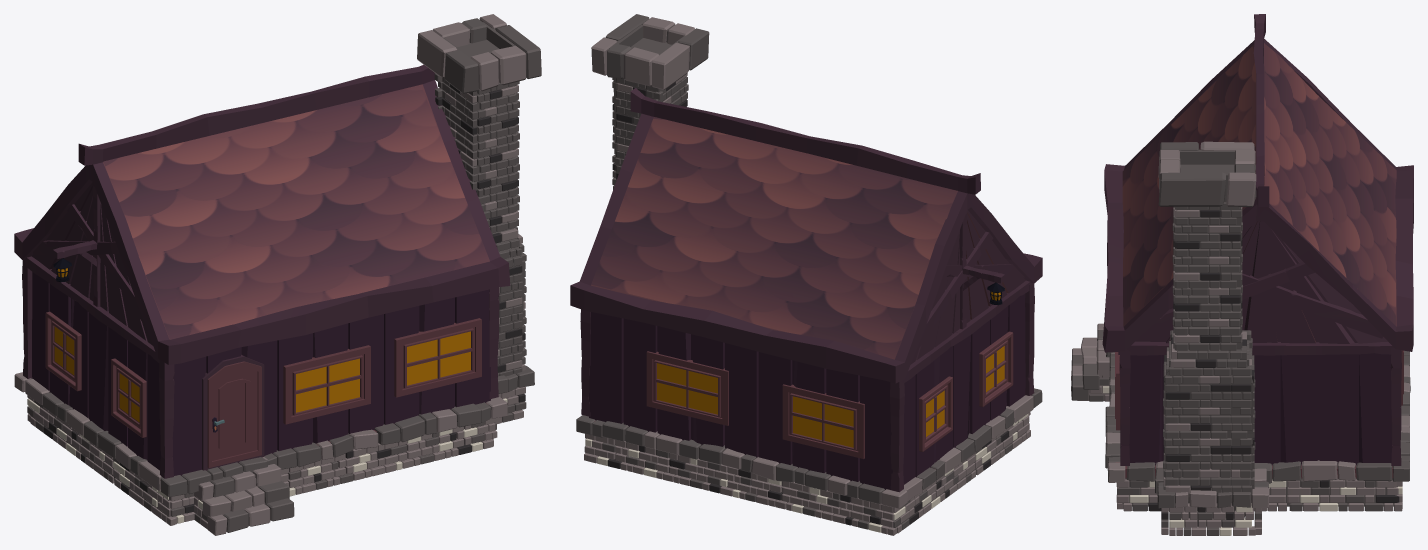
Rendered from casa-madeira4.fbx.
The picture shows the model from 3 angles, left to right: view 1: azimuth 30°, elevation 25°; view 2: azimuth 150°, elevation 25°; view 3: azimuth 270°, elevation 25°; orthographic projection. The views are drawn at different scales.
Visible parts, largest first — view 1: CasaMadeira4, Cube.014; view 2: CasaMadeira4; view 3: CasaMadeira4.
Part boxes in pixels (x1,y1,x2,y2): CasaMadeira4: (14, 14, 541, 535); Cube.014: (207, 361, 261, 468); CasaMadeira4: (570, 14, 1042, 535); CasaMadeira4: (1071, 14, 1413, 535).
Size of the model in its own units: 6.32 by 5.04 by 4.3.
